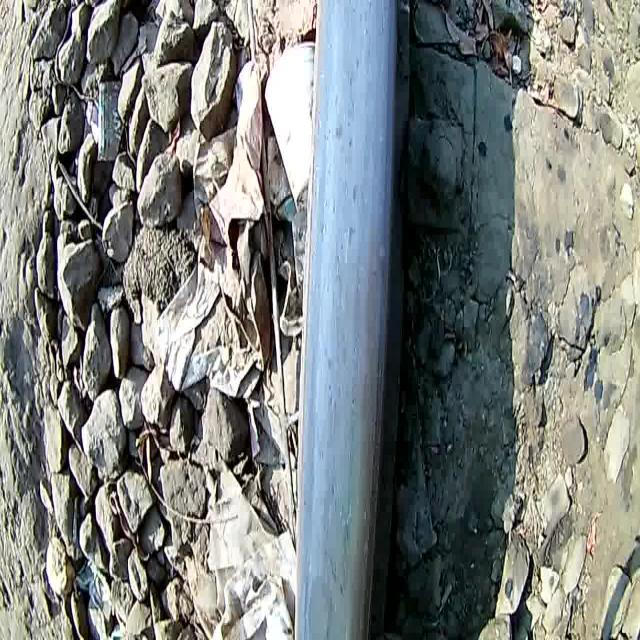Squats: (268, 0, 422, 640)
